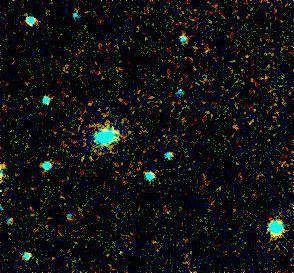star: (48, 54, 78, 84)
